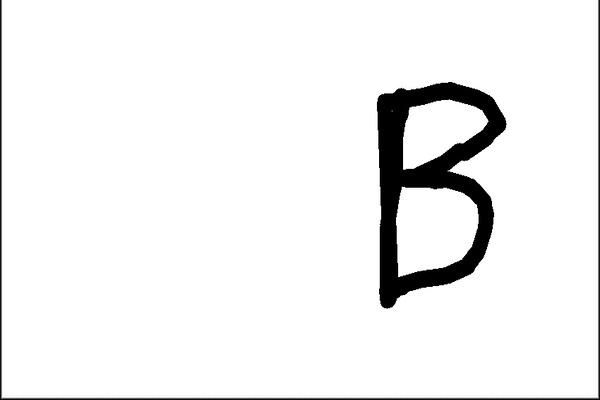B: (366, 68, 515, 315)
